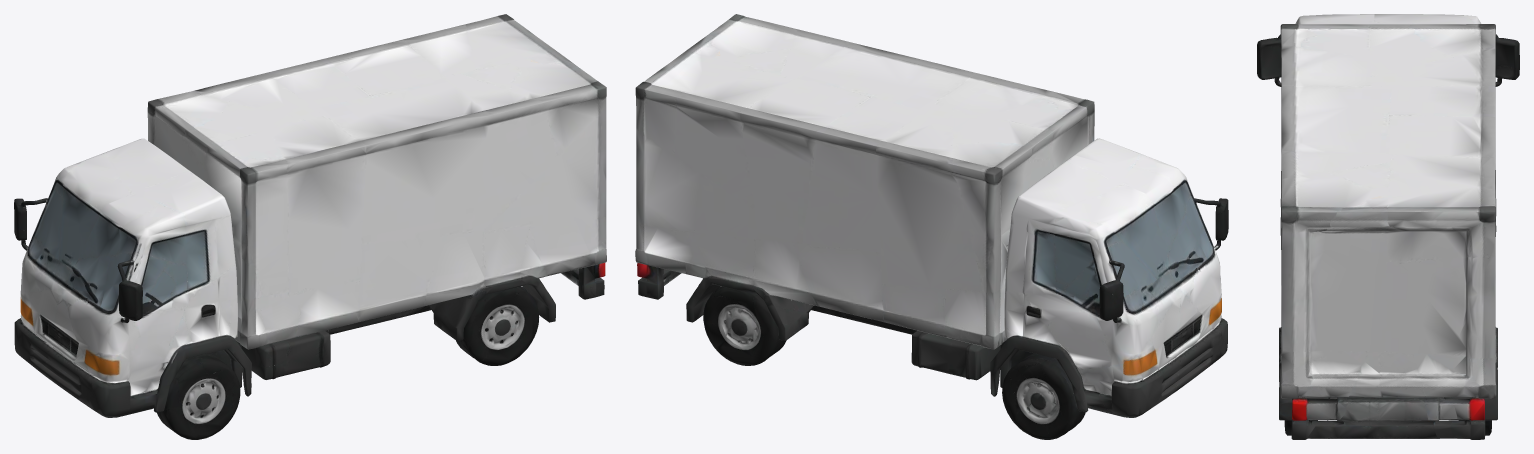
Rendered from cdd.glb.
The picture shows the model from 3 angles, left to right: view 1: azimuth 30°, elevation 25°; view 2: azimuth 150°, elevation 25°; view 3: azimuth 270°, elevation 25°; orthographic projection. The views are drawn at different scales.
Size of the model in its own units: 1.9 by 0.9184 by 0.8007.
Materials: 1 (1 with a texture image).
